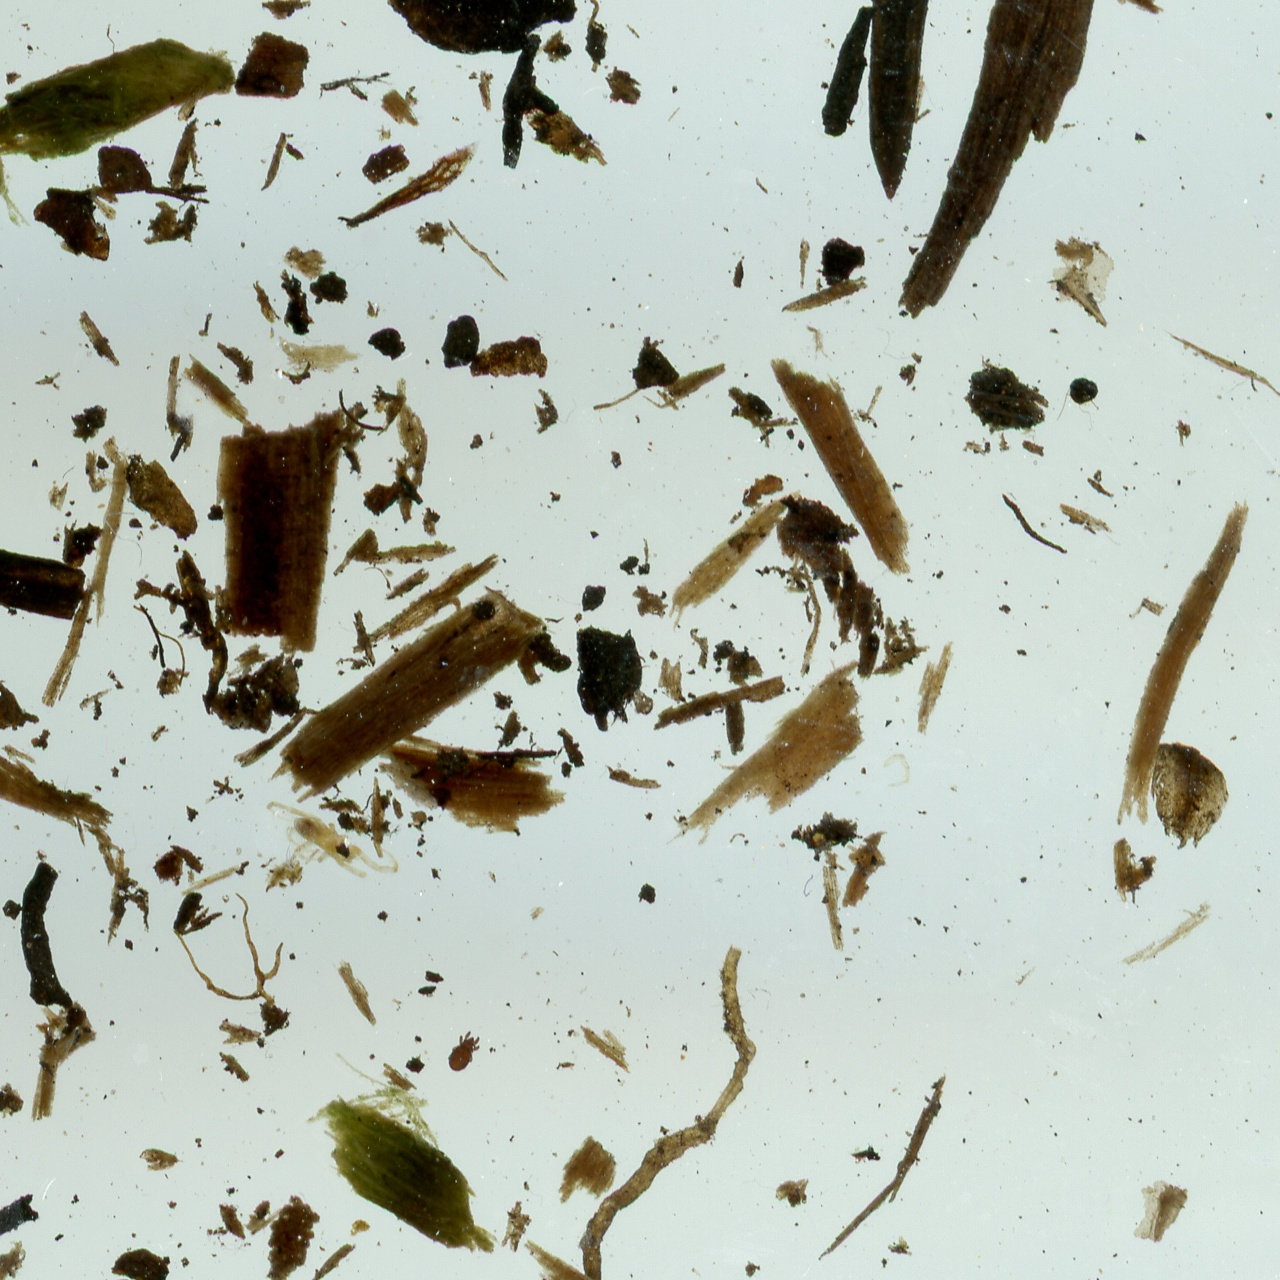arthropod: (238, 781, 409, 922), (437, 1024, 491, 1084)
